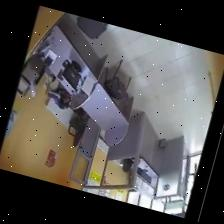person: (47, 83, 71, 108)
